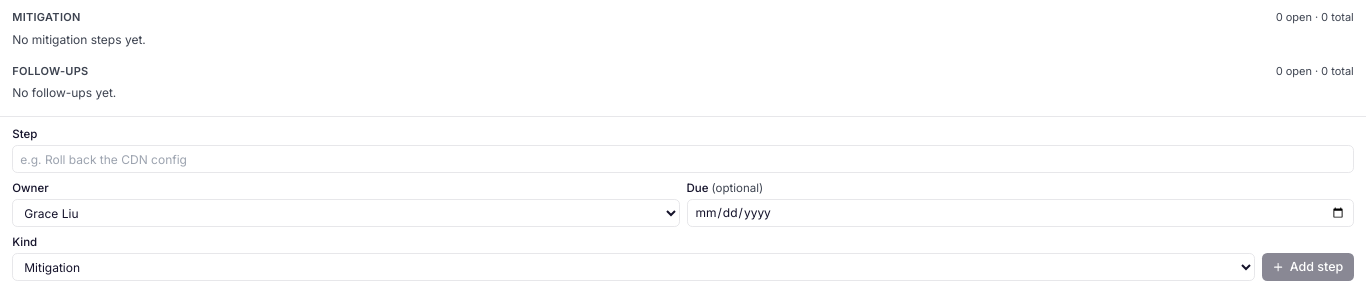
IncidentActionsView › adds a step with title, owner, due and kind; clears only after the API accepts
Type "Purge the cache" into the field labelled "Step". click: [683, 159]
box: [12, 145, 1354, 173]
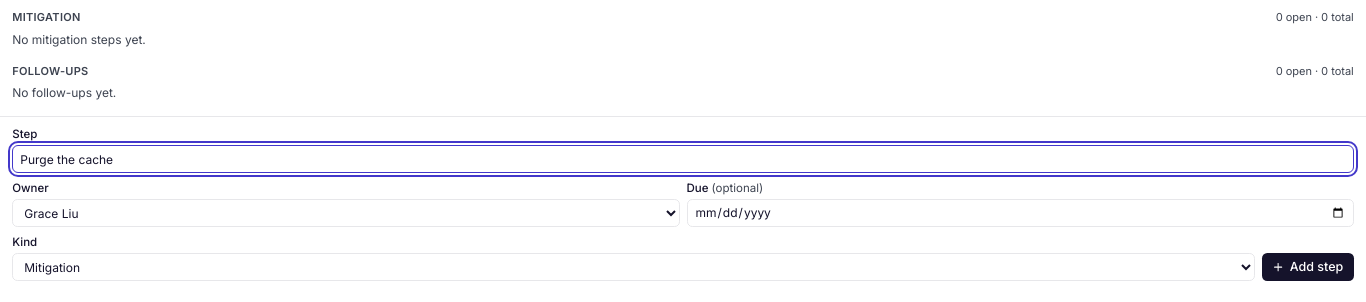
Select "Kofi Mensah" in the dropdown labelled "Owner". click: [346, 213]
box: [12, 199, 680, 227]
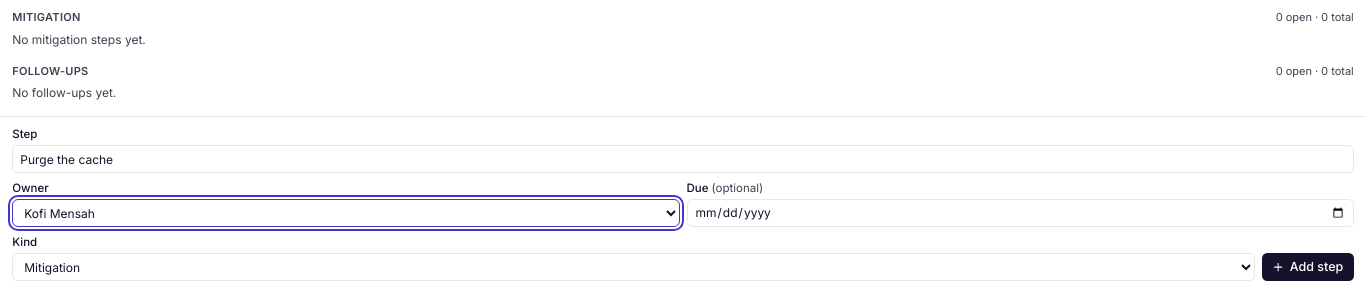
Type "2026-11-09" into the date field labelled "Due (optional)". click: [1020, 213]
box: [686, 199, 1354, 227]
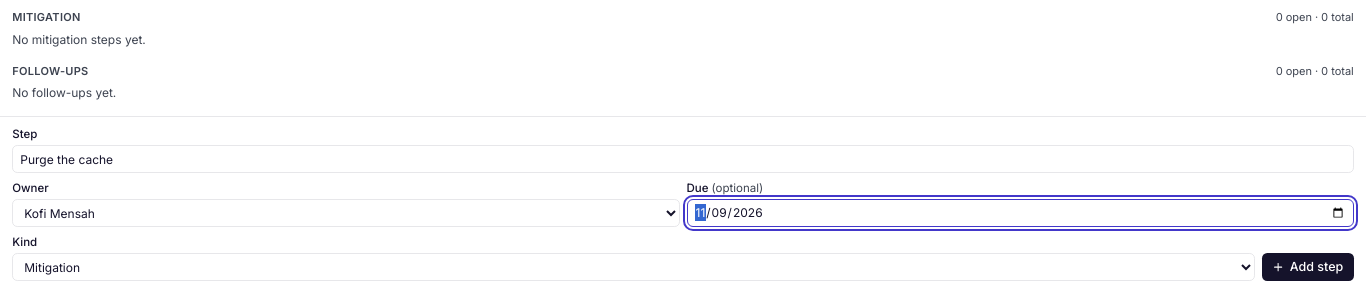
Select "Follow-up" in the dropdown labelled "Kind". click: [634, 267]
box: [12, 253, 1255, 281]
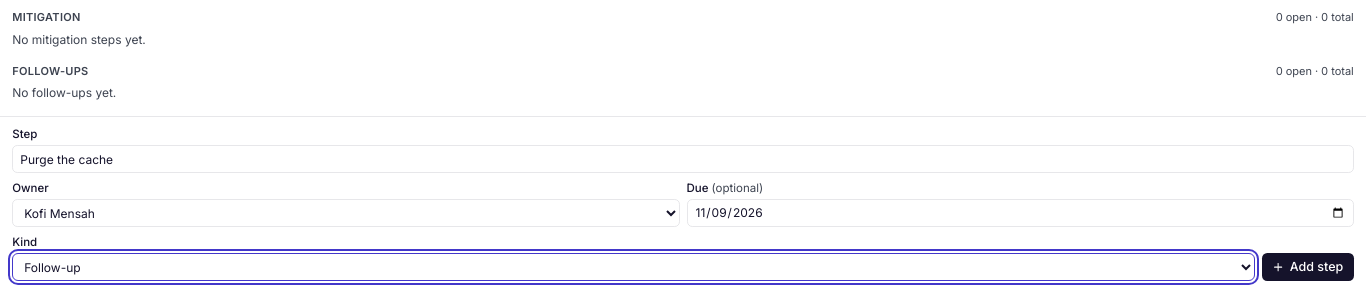
Click the button "Add step". click: [1308, 267]
box: [1262, 253, 1354, 281]
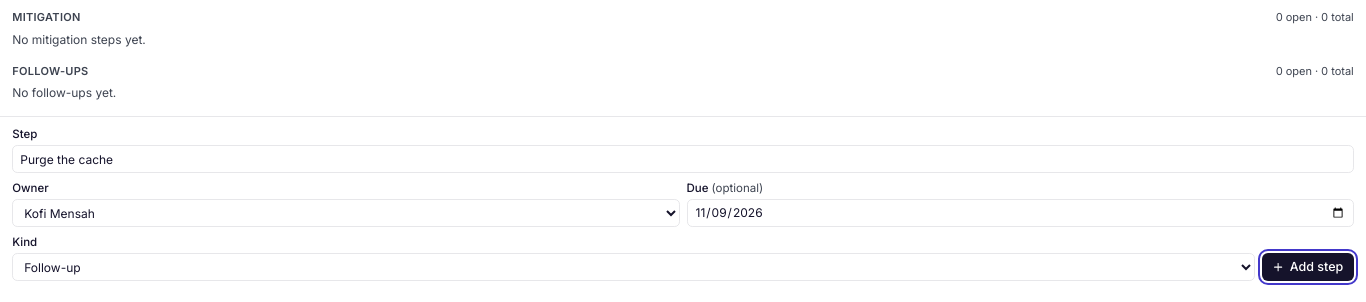
Click the button "Add step". click: [1308, 267]
box: [1262, 253, 1354, 281]
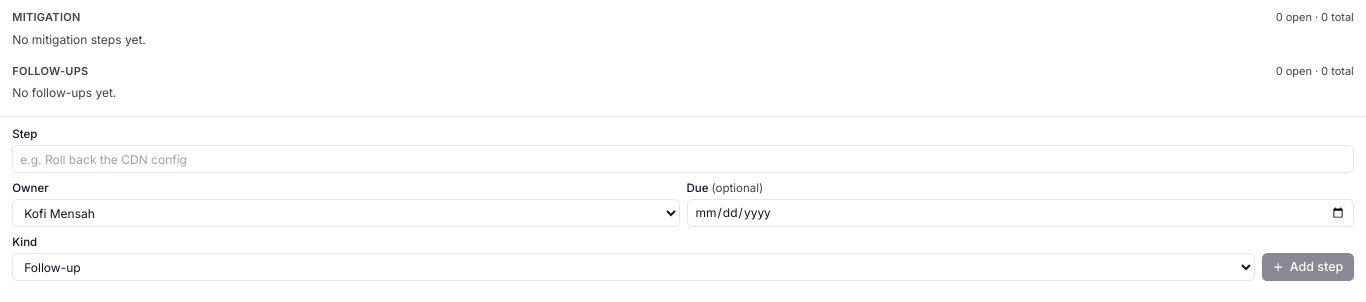
expect the field labelled "Step" is empty: met, box [12, 145, 1354, 173]
